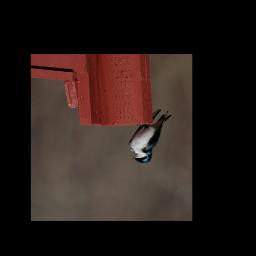Swallow: (128, 110, 172, 164)
